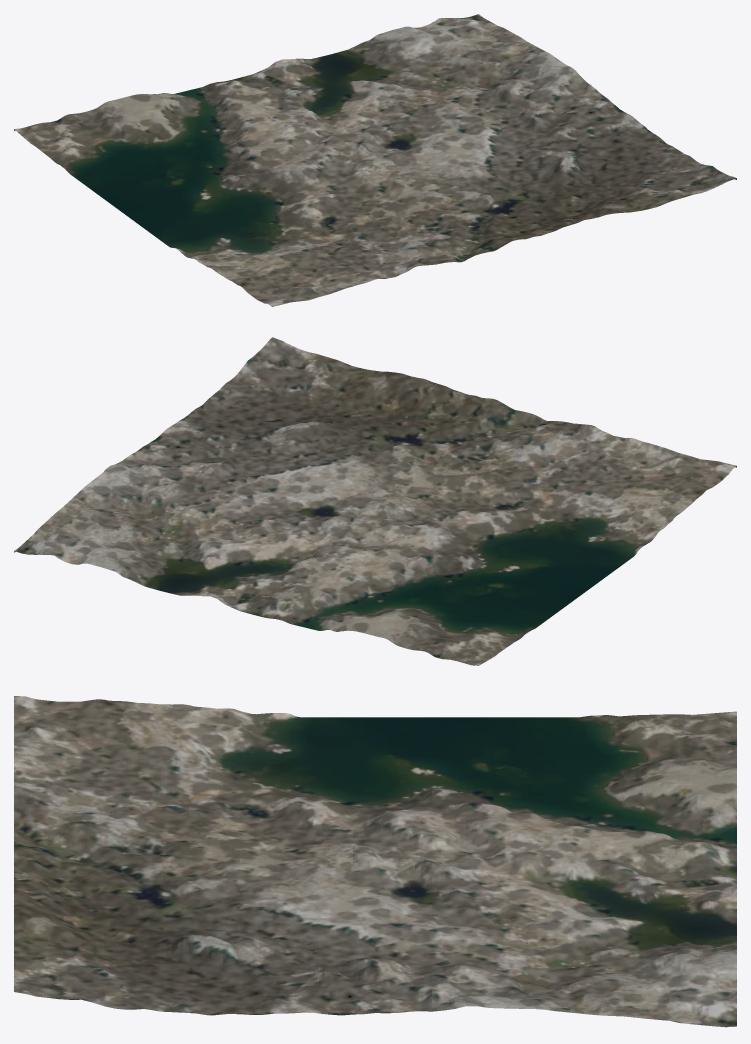
3 renders of one model, top to bottom at view 1: azimuth 30°, elevation 25°; view 2: azimuth 150°, elevation 25°; view 3: azimuth 270°, elevation 25°, orthographic. The views are drawn at different scales.
Bounding box in the file's own units: 250 × 16.77 × 241.
1 material, 1 textured.
